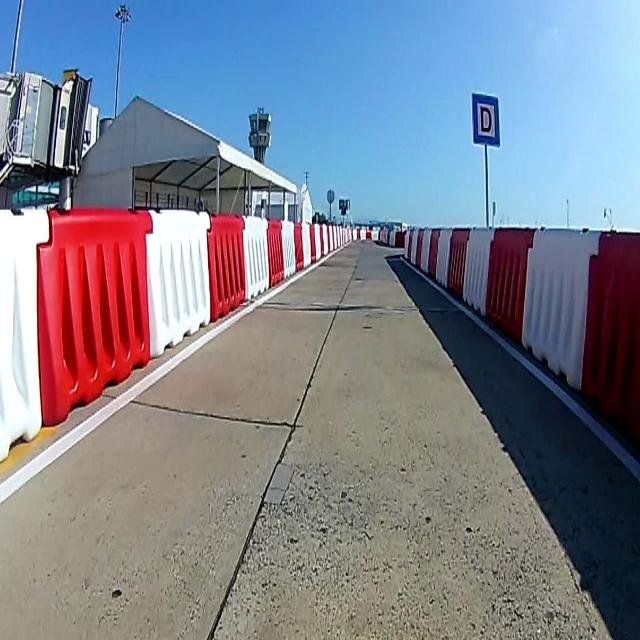durak: (471, 92, 498, 148)
